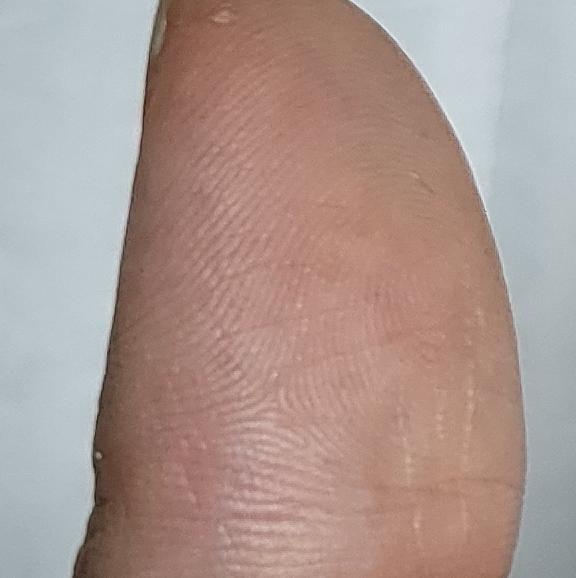Fingerprints: (109, 0, 528, 578)
